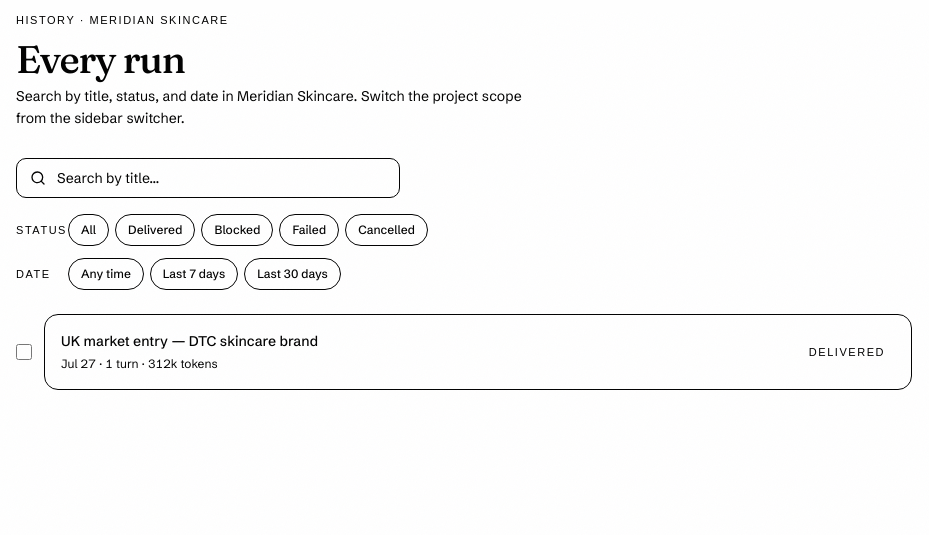
Test: HistoryPage › names the date filter in the no-matches recovery copy
This screenshot has width=929, height=535.
Click the radio button labelled "Last 7 days". click: (194, 274)
box: top-left (150, 258), bottom-right (238, 290)
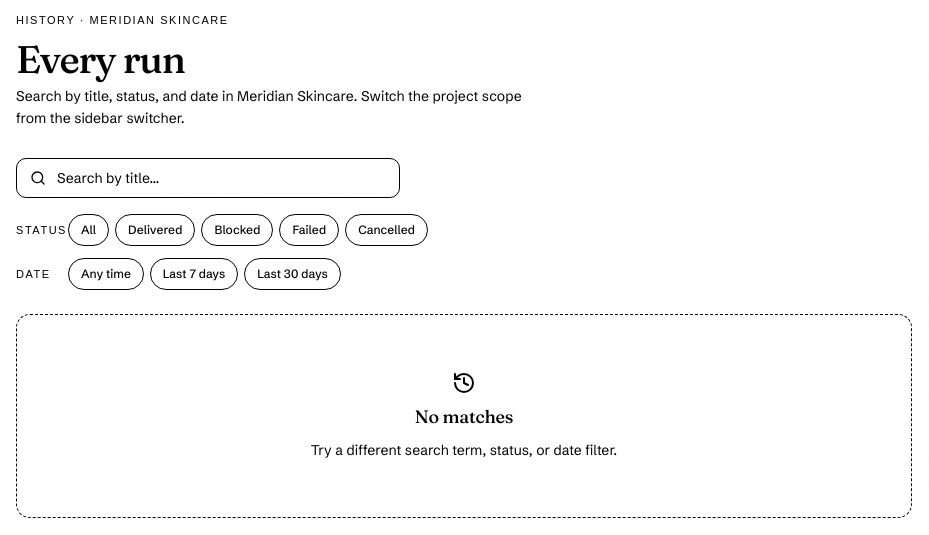
Result: the text "No matches" is shown at top-left (415, 407), bottom-right (513, 426)
Result: the text "Try a different search term, status, or date filter." is shown at top-left (311, 438), bottom-right (617, 461)
